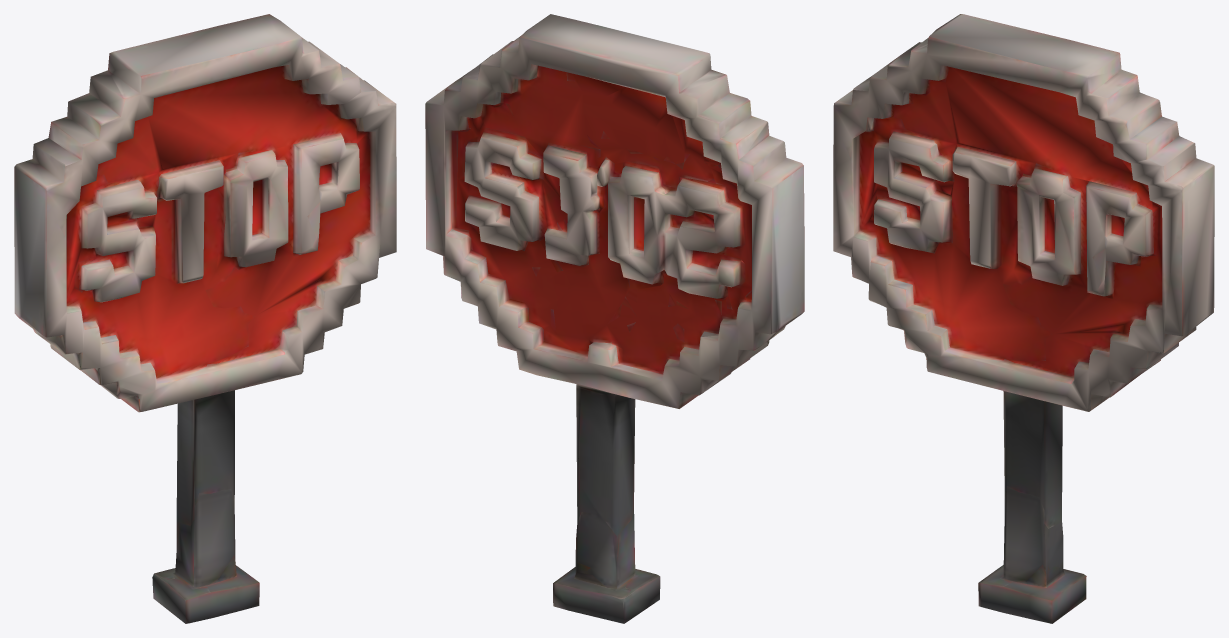
File: traffic-sign-stop.glb
3 views of the same model, side by side, from view 1: azimuth 30°, elevation 25°; view 2: azimuth 150°, elevation 25°; view 3: azimuth 330°, elevation 25° (orthographic).
Parts seen in each view (by area): view 1: material; view 2: material; view 3: material.
Boxes of the visible parts, bbox=[...] form: material: bbox=[14, 14, 396, 623]; material: bbox=[425, 14, 804, 623]; material: bbox=[833, 14, 1214, 623].
Bounding box in the file's own units: 0.7512 × 1.14 × 0.1441.
Materials: 1 (1 with a texture image).
